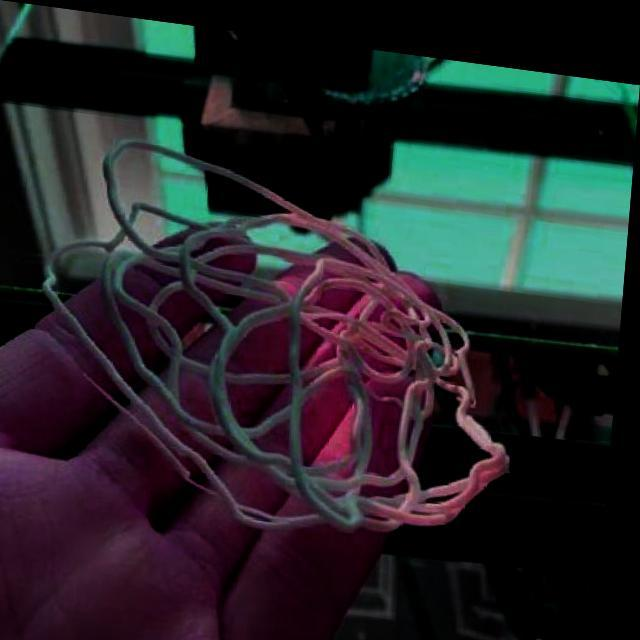spaghetti: (29, 120, 538, 553)
